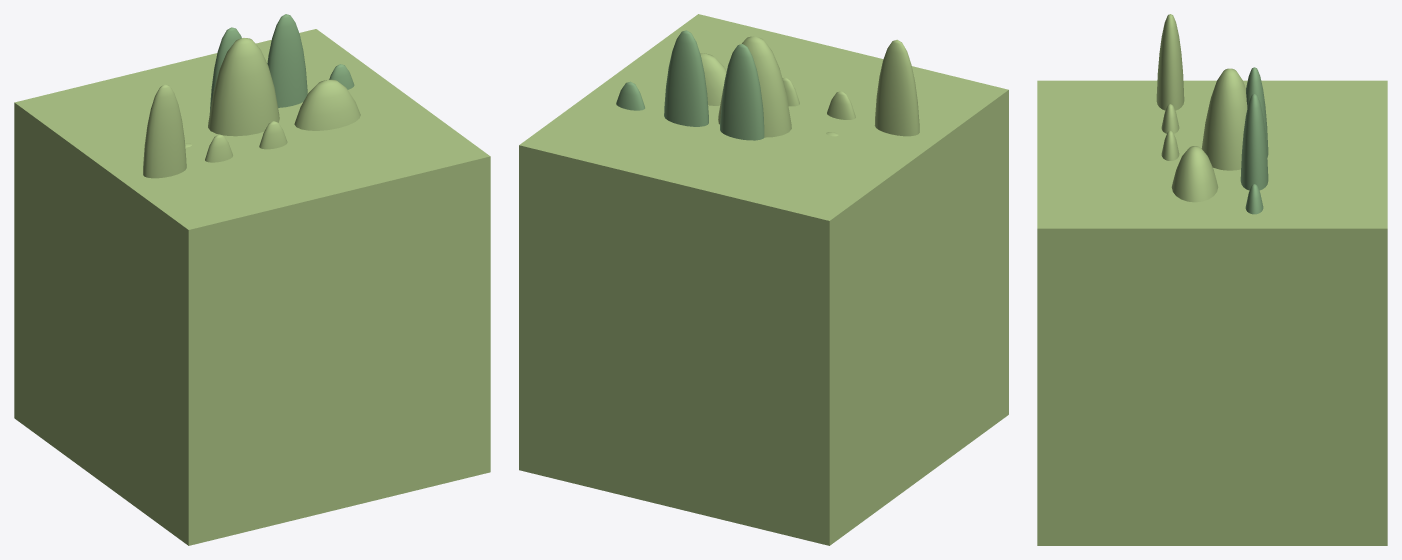
File: plant.gltf
3 views of the same model, side by side, from view 1: azimuth 30°, elevation 25°; view 2: azimuth 150°, elevation 25°; view 3: azimuth 270°, elevation 25° (orthographic). The views are drawn at different scales.
Parts seen in each view (by area): view 1: body, leafC, leaf_detail_5, leaf_detail_8, leafR, leaf_detail_2, leaf_detail_1, leaf_detail_7; view 2: body, leaf_detail_5, leaf_detail_8, leaf_detail_2, leafC, leafR, leaf_detail_4, leaf_detail_1; view 3: body, leafC, leaf_detail_8, leaf_detail_5, leafR, leaf_detail_2.
Part boxes in pixels (left/top/right/bottom): body: left=14, top=29, right=490, bottom=545; leafC: left=208, top=38, right=279, bottom=136; leaf_detail_5: left=143, top=84, right=186, bottom=178; leaf_detail_8: left=267, top=14, right=307, bottom=107; leafR: left=294, top=79, right=360, bottom=130; leaf_detail_2: left=209, top=27, right=241, bottom=113; leaf_detail_1: left=205, top=134, right=232, bottom=162; leaf_detail_7: left=259, top=121, right=287, bottom=149; body: left=519, top=14, right=1008, bottom=545; leaf_detail_5: left=874, top=39, right=919, bottom=136; leaf_detail_8: left=664, top=30, right=708, bottom=126; leaf_detail_2: left=720, top=44, right=764, bottom=140; leafC: left=718, top=36, right=791, bottom=137; leafR: left=700, top=53, right=726, bottom=105; leaf_detail_4: left=616, top=81, right=644, bottom=110; leaf_detail_1: left=827, top=91, right=855, bottom=119; body: left=1037, top=80, right=1387, bottom=545; leafC: left=1201, top=68, right=1247, bottom=170; leaf_detail_8: left=1240, top=94, right=1268, bottom=190; leaf_detail_5: left=1156, top=14, right=1184, bottom=110; leafR: left=1171, top=146, right=1218, bottom=202; leaf_detail_2: left=1246, top=67, right=1268, bottom=157.
Size of the model in its own units: 1 by 1.32 by 1.
